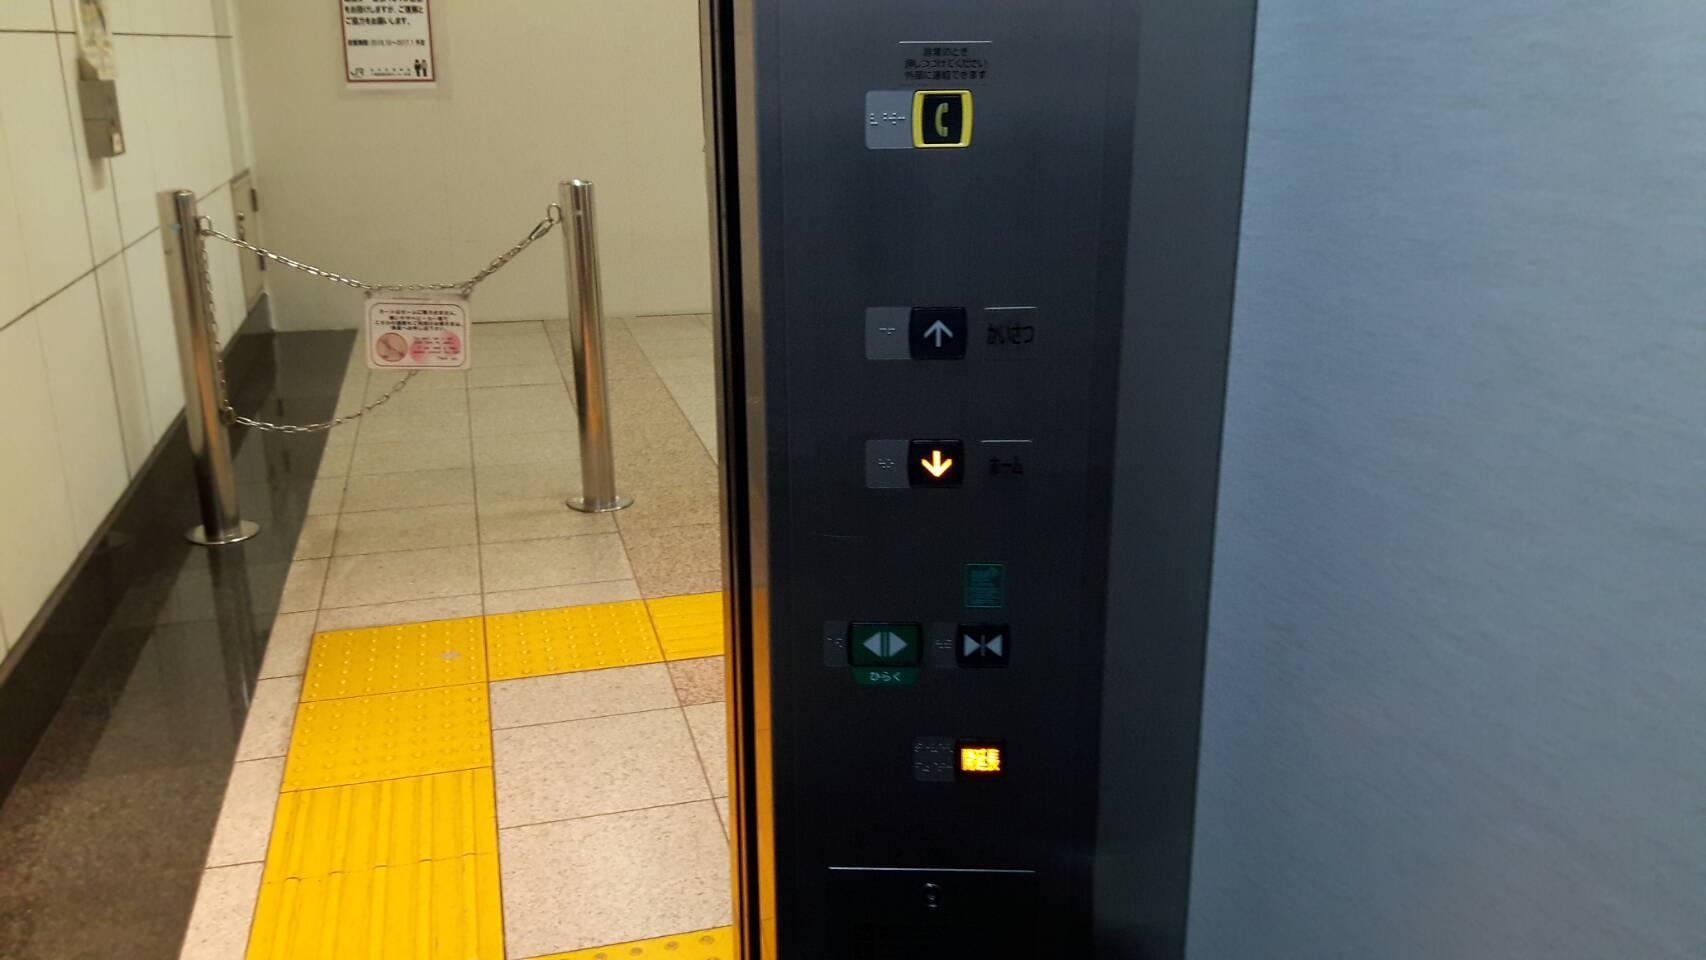call: (912, 89, 973, 149)
close: (955, 622, 1011, 668)
down: (908, 436, 965, 492)
open: (847, 620, 923, 669)
text: (951, 735, 1008, 779)
up: (908, 304, 970, 363)
